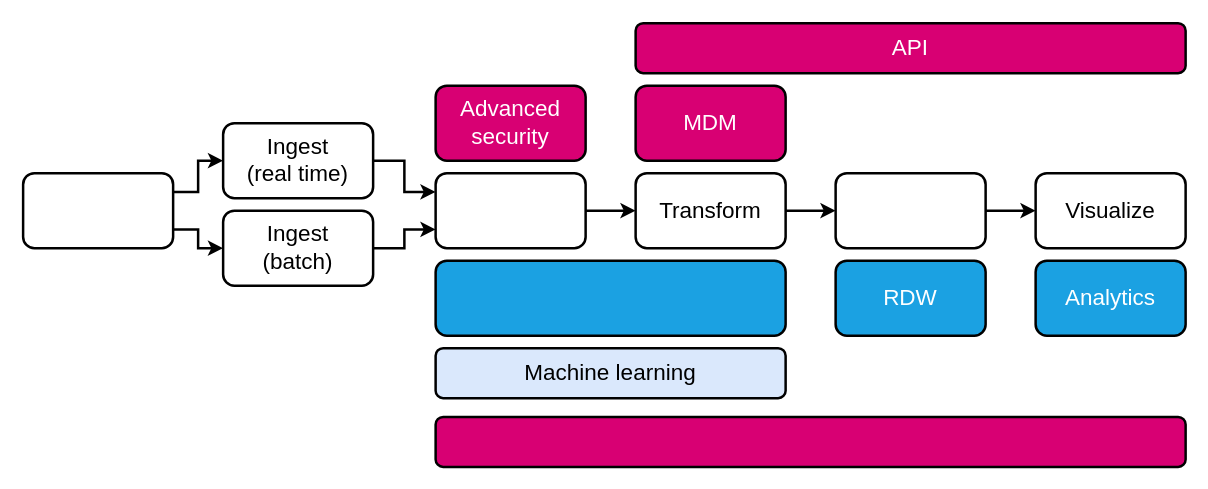
This 1208x489 diagram has some shape labels left out. Each missing label, with the centre of its shape:
"Data lake" belongs at [610,297].
"Data sources" belongs at [97,210].
"Metadata" belongs at [810,441].
"Model" belongs at [910,210].
"Store" belongs at [510,210].
